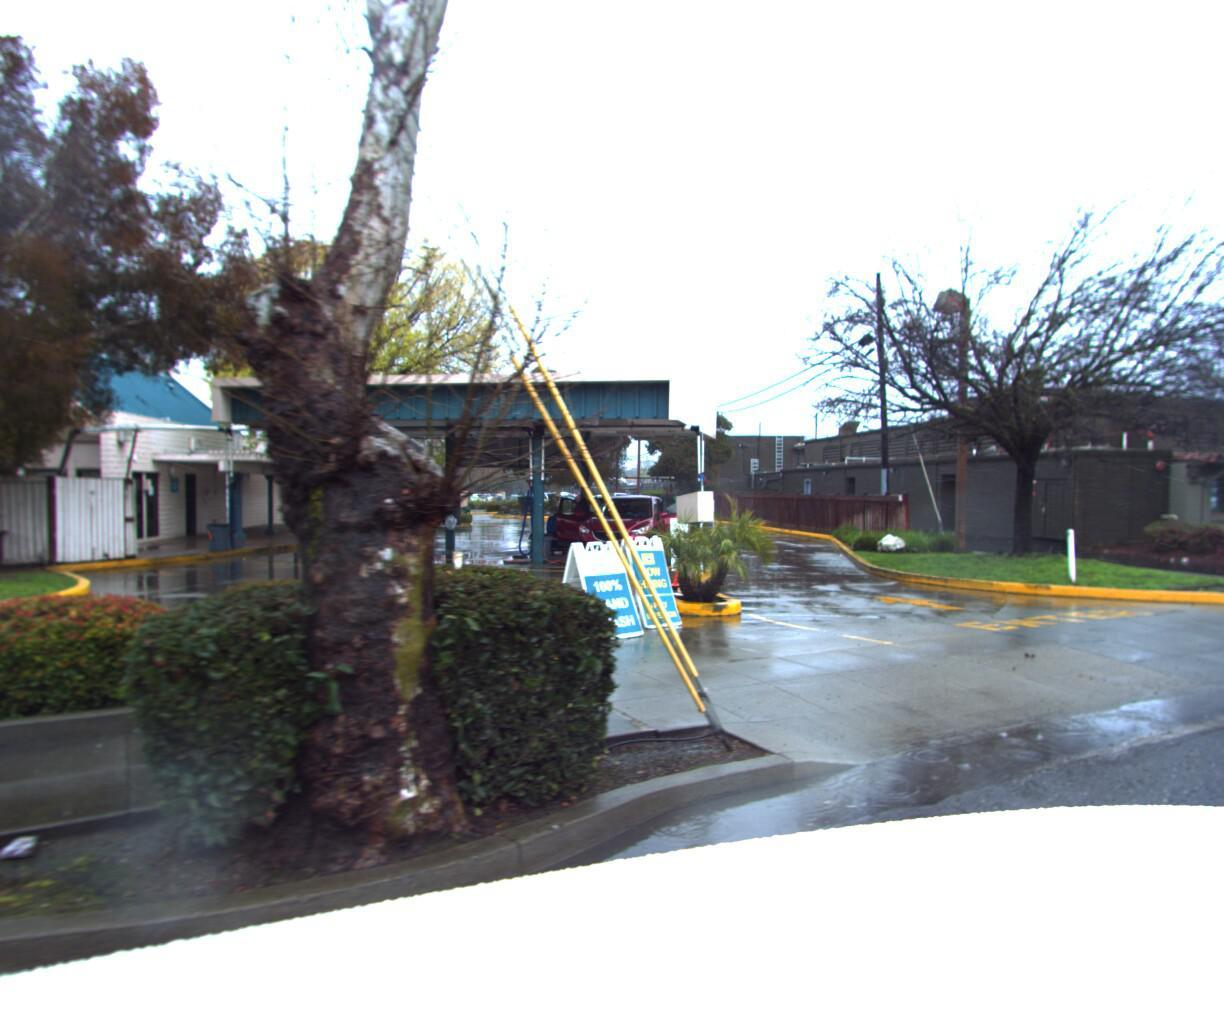car: (569, 491, 682, 567)
